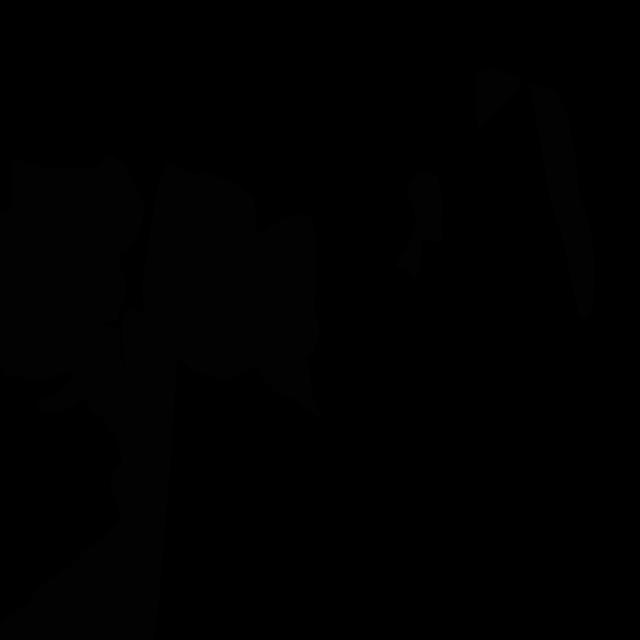cardboard: (0, 324, 177, 640), (142, 161, 316, 383), (0, 154, 146, 384), (529, 83, 595, 317), (256, 303, 323, 418), (396, 170, 444, 279), (122, 308, 160, 412), (475, 69, 520, 130)
